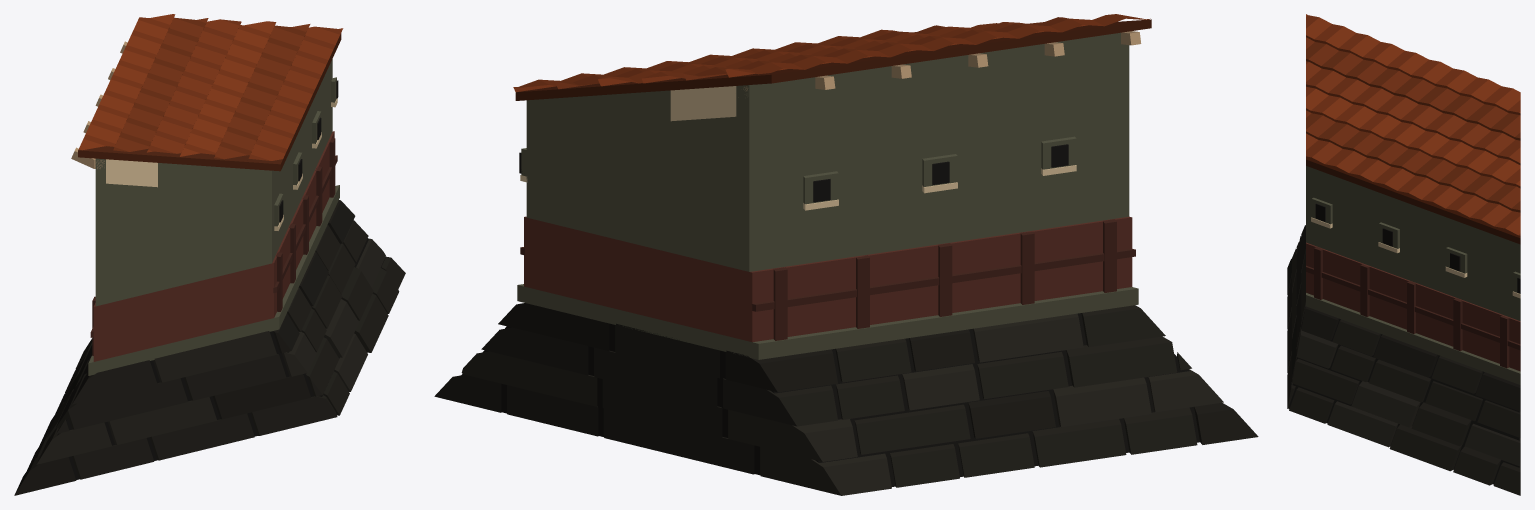
Rendered from VerWall10.glb.
The picture shows the model from 3 angles, left to right: view 1: azimuth 30°, elevation 25°; view 2: azimuth 150°, elevation 25°; view 3: azimuth 270°, elevation 25°; orthographic projection. The views are drawn at different scales.
Parts seen in each view (by area): view 1: VerWall10_mortar; view 2: VerWall10_mortar; view 3: VerWall10_mortar.
Boxes of the visible parts, x1,y1,x2,y2 form: VerWall10_mortar: (14, 14, 405, 495); VerWall10_mortar: (434, 14, 1258, 495); VerWall10_mortar: (1287, 14, 1520, 495).
Size of the model in its own units: 9.42 by 5.57 by 4.08.
